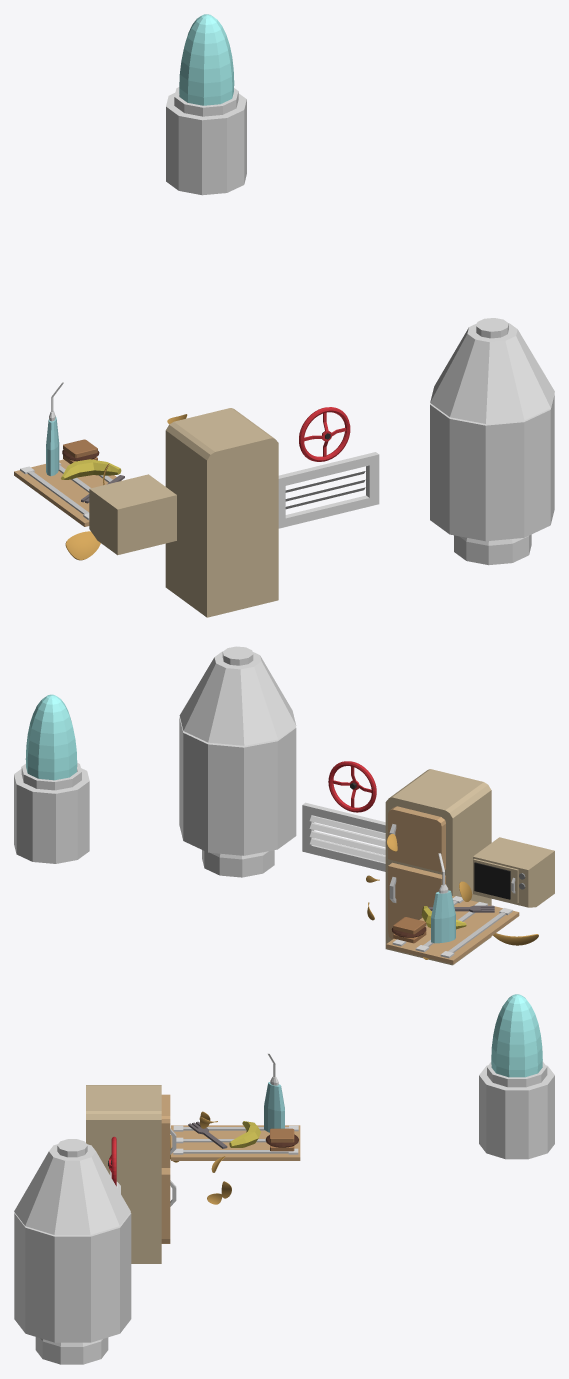
The model's file is cucina.fbx.
The picture shows the model from 3 angles, top to bottom: view 1: azimuth 30°, elevation 25°; view 2: azimuth 150°, elevation 25°; view 3: azimuth 270°, elevation 25°; orthographic projection. The views are drawn at different scales.
Parts seen in each view (by area): view 1: Cube.011, Cylinder.005, Cylinder.006, Cylinder.009, Cube.016, Sphere, Cube.027, Cube, Torus.002, Cylinder.002, Circle.002; view 2: Cylinder.005, Cylinder.006, Cube.011, Cylinder.009, Sphere, Cube.016, Cube.012, Cube, Cube.013, Cube.027, Cylinder, Cube.018 (+7 smaller); view 3: Cylinder.005, Cube.011, Cylinder.006, Cylinder.009, Sphere, Cube, Cylinder, Cube.013, Cube.012, Cylinder.002.
Part boxes in pixels (left/top/right/bottom): Cube.011: left=165, top=408, right=278, bottom=617; Cylinder.005: left=430, top=394, right=554, bottom=541; Cylinder.006: left=430, top=318, right=554, bottom=565; Cylinder.009: left=166, top=87, right=246, bottom=195; Cube.016: left=89, top=474, right=176, bottom=555; Sphere: left=179, top=14, right=234, bottom=105; Cube.027: left=278, top=452, right=379, bottom=528; Cube: left=14, top=459, right=121, bottom=526; Torus.002: left=299, top=407, right=350, bottom=461; Cylinder.002: left=61, top=459, right=121, bottom=479; Circle.002: left=65, top=531, right=100, bottom=560; Cylinder.005: left=179, top=717, right=296, bottom=855; Cylinder.006: left=179, top=646, right=296, bottom=877; Cube.011: left=385, top=769, right=491, bottom=965; Cylinder.009: left=14, top=763, right=89, bottom=863; Sphere: left=25, top=694, right=77, bottom=780; Cube.016: left=473, top=837, right=554, bottom=907; Cube.012: left=388, top=806, right=445, bottom=872; Cube: left=386, top=896, right=519, bottom=964; Cube.013: left=388, top=862, right=445, bottom=939; Cube.027: left=302, top=802, right=385, bottom=871; Cylinder: left=431, top=890, right=455, bottom=943; Cube.018: left=474, top=862, right=510, bottom=899; Cylinder.005: left=14, top=1212, right=131, bottom=1342; Cube.011: left=86, top=1085, right=161, bottom=1263; Cylinder.006: left=14, top=1139, right=130, bottom=1364; Cylinder.009: left=479, top=1061, right=554, bottom=1159; Sphere: left=491, top=994, right=542, bottom=1077; Cube: left=171, top=1125, right=300, bottom=1160; Cylinder: left=264, top=1082, right=284, bottom=1132; Cube.013: left=161, top=1168, right=170, bottom=1243; Cube.012: left=161, top=1094, right=170, bottom=1167; Cylinder.002: left=229, top=1121, right=260, bottom=1147.
Size of the model in its own units: 1188 by 995 by 1427.
